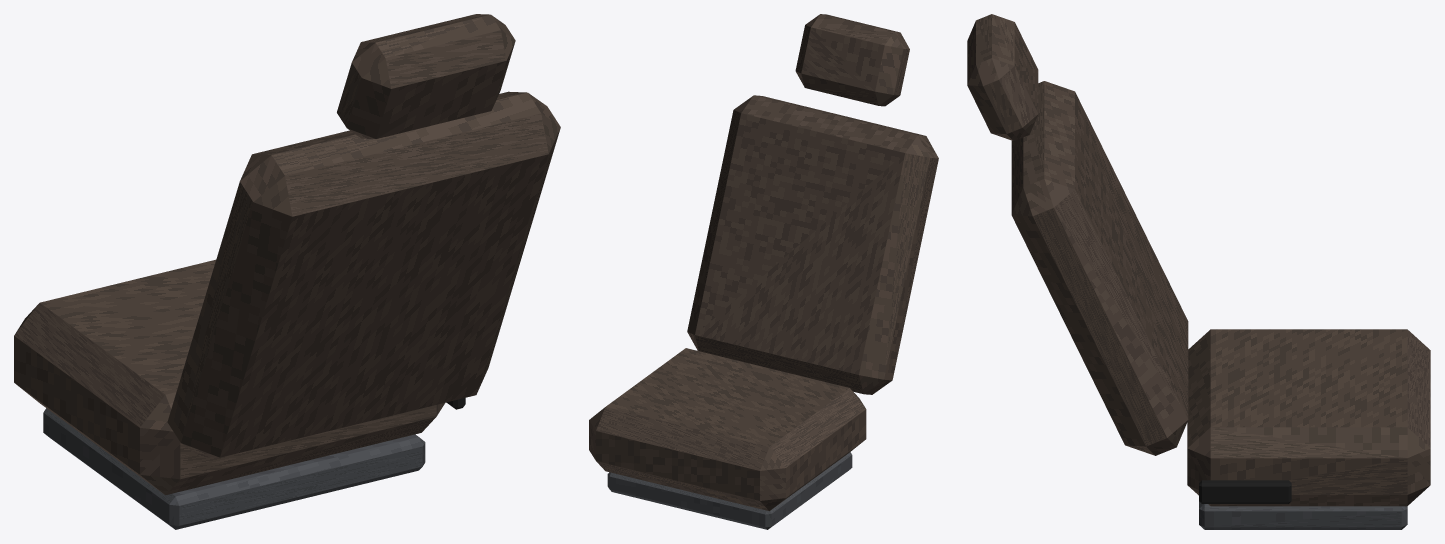
File: vp_reclining_seat.glb
3 renders of one model, left to right at view 1: azimuth 30°, elevation 25°; view 2: azimuth 150°, elevation 25°; view 3: azimuth 270°, elevation 25°, orthographic. The views are drawn at different scales.
Visible parts, largest first — view 1: block_backrest, block_cushion, block_headrest, block_rails; view 2: block_backrest, block_cushion, block_headrest, block_rails; view 3: block_cushion, block_backrest, block_headrest, block_rails, block_lever.
Boxes of the visible parts, x1,y1,x2,y2 form: block_backrest: (167, 91, 560, 457); block_cushion: (14, 259, 444, 495); block_headrest: (337, 14, 515, 138); block_rails: (43, 408, 425, 529); block_backrest: (687, 95, 938, 394); block_cushion: (589, 348, 866, 511); block_headrest: (795, 14, 909, 106); block_rails: (607, 452, 852, 529); block_cushion: (1187, 329, 1430, 506); block_backrest: (1011, 81, 1188, 455); block_headrest: (967, 14, 1038, 140); block_rails: (1199, 501, 1407, 529); block_lever: (1199, 480, 1291, 503).
Bounding box in the file's own units: 0.5 × 0.8517 × 0.7998.
2 materials, 2 textured.
